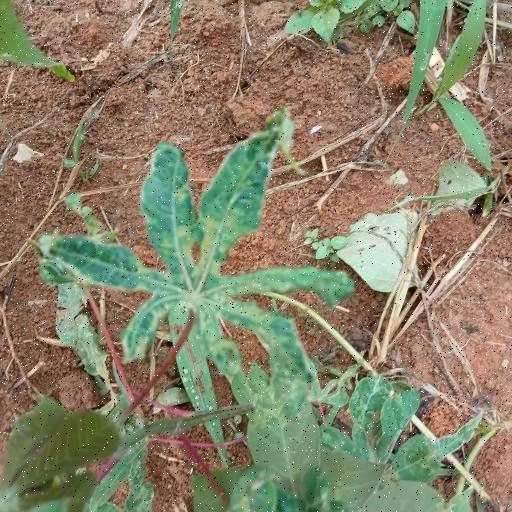Cassava_Mosaic: (46, 133, 350, 408)
